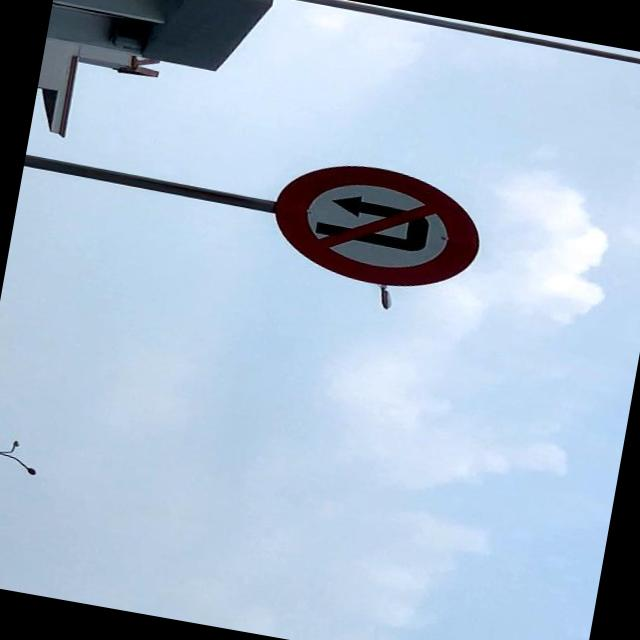P-124a1: (266, 150, 492, 302)
